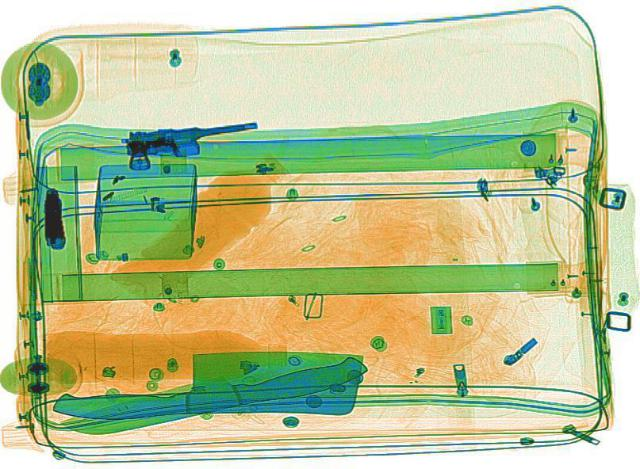Gun: (121, 118, 262, 170), (39, 187, 67, 246)
Knife: (52, 350, 374, 439), (50, 347, 364, 418)
